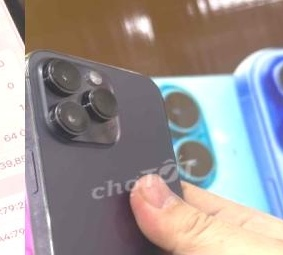scratch: (25, 177, 71, 255)
